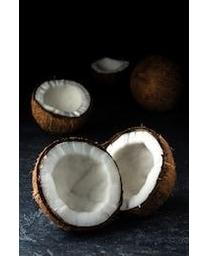coconut: (32, 136, 123, 233), (104, 125, 176, 221), (32, 78, 94, 136), (130, 59, 175, 98)
